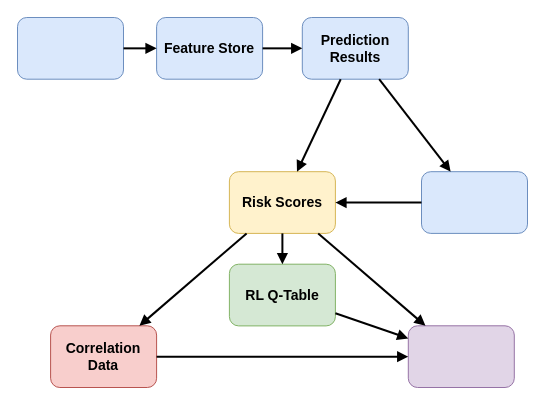
Some shapes in this 545 by 405 pixel diagram are drawn without their labels. Here are the shapes that lost their labels. From the top down, the centre of each, then its label:
At point (70, 47): "Request Logs".
At point (474, 202): "Anomaly Scores".
At point (460, 356): "Alert Logs".
